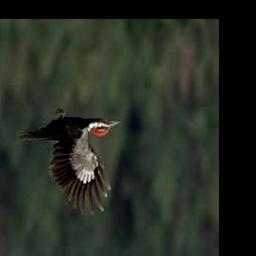Woodpecker: (19, 108, 121, 216)
